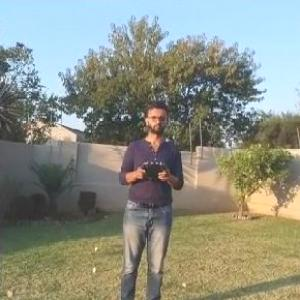follow: (111, 95, 188, 299)
